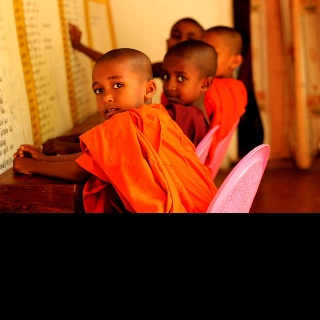without_mask: (91, 62, 146, 120), (162, 56, 201, 104)
